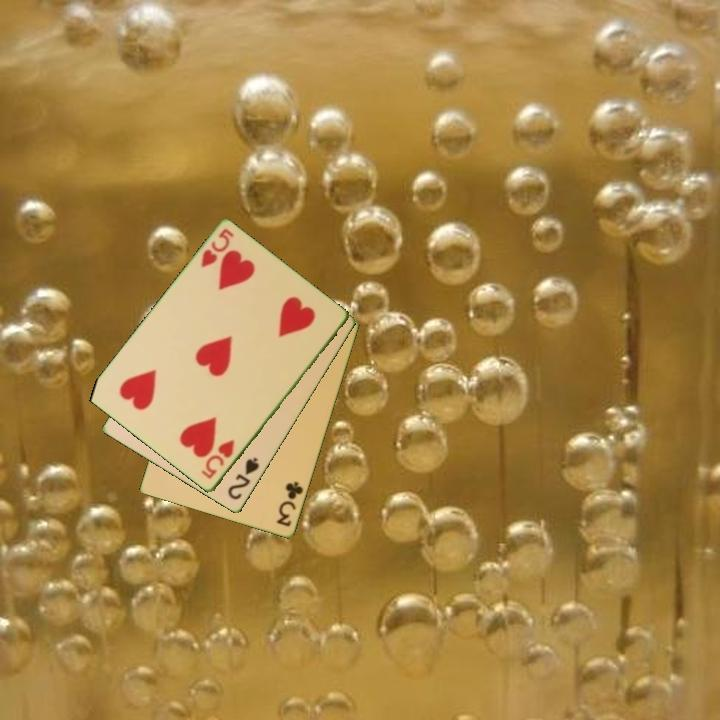2s: (224, 454, 262, 503)
3c: (273, 478, 306, 530)
5h: (197, 436, 237, 482), (197, 225, 237, 271)
